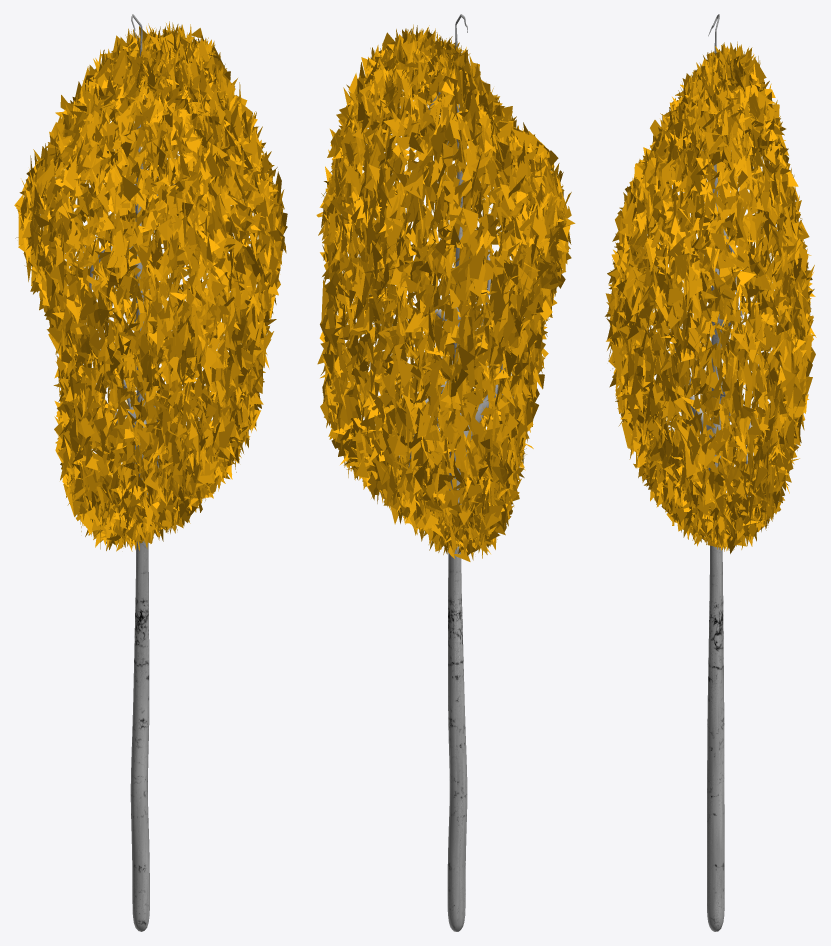
Rendered from Leaves13.001.fbx.
The picture shows the model from 3 angles, left to right: view 1: azimuth 30°, elevation 25°; view 2: azimuth 150°, elevation 25°; view 3: azimuth 270°, elevation 25°; orthographic projection.
Parts seen in each view (by area): view 1: Leaves13.001; view 2: Leaves13.001; view 3: Leaves13.001.
Part boxes in pixels (<box>): Leaves13.001: <box>14,14,287,931</box>; Leaves13.001: <box>316,14,575,931</box>; Leaves13.001: <box>605,14,816,931</box>.
Bounding box in the file's own units: 739 × 2612 × 550.
Materials: 2 (1 with a texture image).
